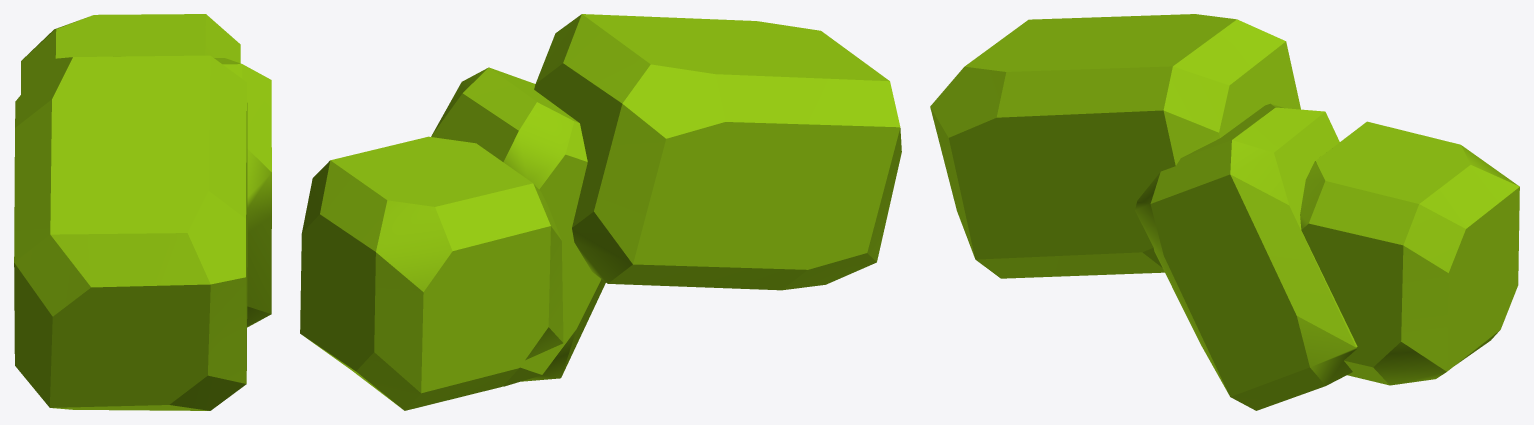
File: tree_big_boxy_bevel_7.fbx
The picture shows the model from 3 angles, left to right: view 1: azimuth 30°, elevation 25°; view 2: azimuth 150°, elevation 25°; view 3: azimuth 270°, elevation 25°; orthographic projection. The views are drawn at different scales.
Parts seen in each view (by area): view 1: tree_big_boxy_bevel_7; view 2: tree_big_boxy_bevel_7; view 3: tree_big_boxy_bevel_7.
Part boxes in pixels (bbox=[...]): tree_big_boxy_bevel_7: bbox=[14, 14, 271, 410]; tree_big_boxy_bevel_7: bbox=[300, 14, 901, 410]; tree_big_boxy_bevel_7: bbox=[930, 14, 1519, 410].
Bounding box in the file's own units: 145 × 110 × 190.
